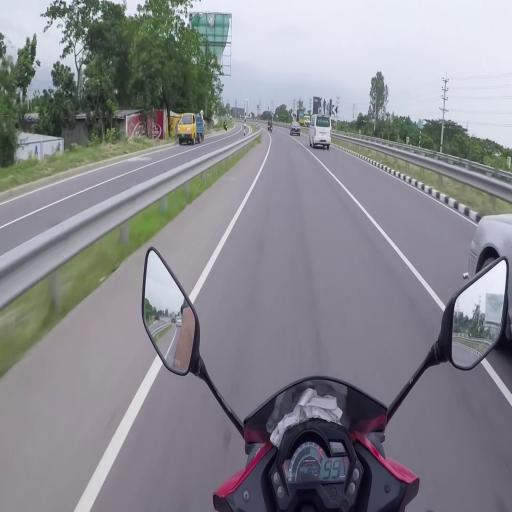car: (469, 213, 512, 357), (291, 122, 302, 137)
motorbike: (142, 245, 509, 511), (224, 124, 229, 133), (271, 122, 274, 133), (268, 121, 271, 132)
pickup: (178, 113, 204, 145)
truck: (298, 112, 311, 127)
van: (309, 115, 333, 150)
